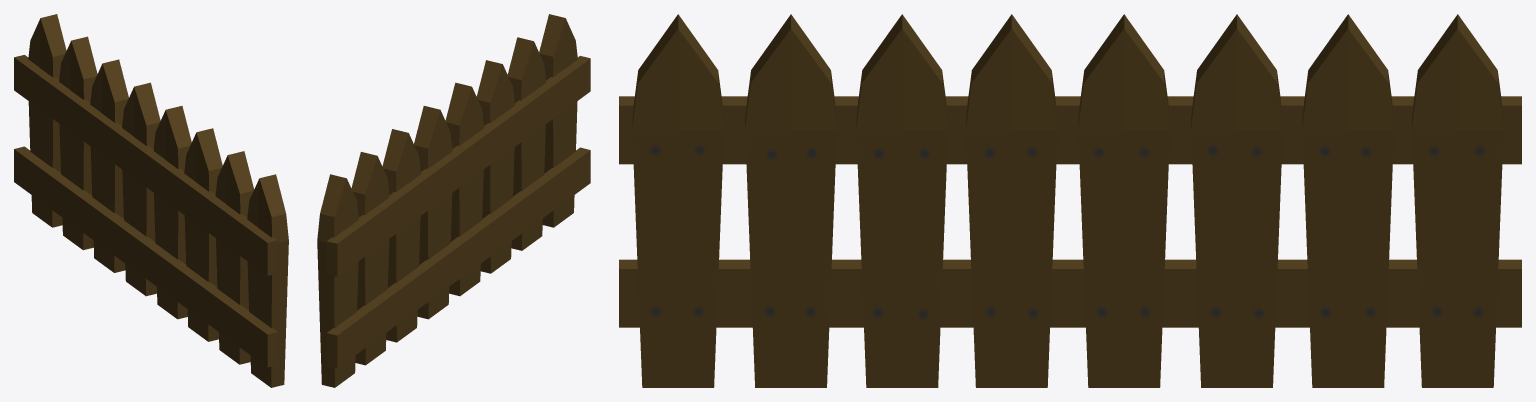
The model's file is Fence_Fancy.fbx.
3 renders of one model, left to right at view 1: azimuth 30°, elevation 25°; view 2: azimuth 150°, elevation 25°; view 3: azimuth 270°, elevation 25°, orthographic. The views are drawn at different scales.
Parts seen in each view (by area): view 1: Cube.005; view 2: Cube.005; view 3: Cube.005.
Part boxes in pixels (x1,y1,x2,y2): Cube.005: [14, 14, 288, 387]; Cube.005: [317, 14, 590, 387]; Cube.005: [619, 14, 1521, 387].
Size of the model in its own units: 14.59 by 112 by 255.
Materials: 1 (1 with a texture image).
